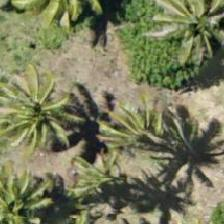coconut_tree: (0, 67, 80, 157), (150, 0, 223, 68), (0, 162, 53, 223)
